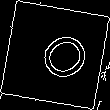O_SW: (21, 22, 89, 88)
